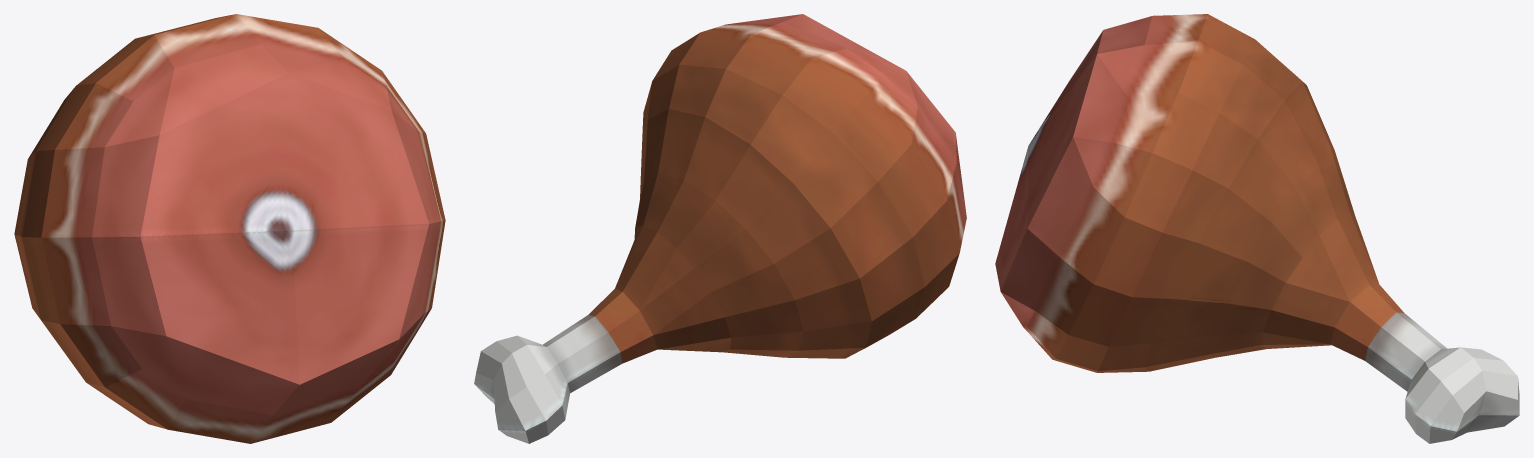
Rendered from Rou_1.fbx.
The picture shows the model from 3 angles, left to right: view 1: azimuth 30°, elevation 25°; view 2: azimuth 150°, elevation 25°; view 3: azimuth 270°, elevation 25°; orthographic projection. The views are drawn at different scales.
Parts seen in each view (by area): view 1: 对象006; view 2: 对象006; view 3: 对象006.
Boxes of the visible parts, box(x1,y1,x2,y2) form: 对象006: box(14, 14, 445, 443); 对象006: box(474, 14, 966, 443); 对象006: box(995, 14, 1519, 443).
Bounding box in the file's own units: 3.28 × 3 × 4.18.
